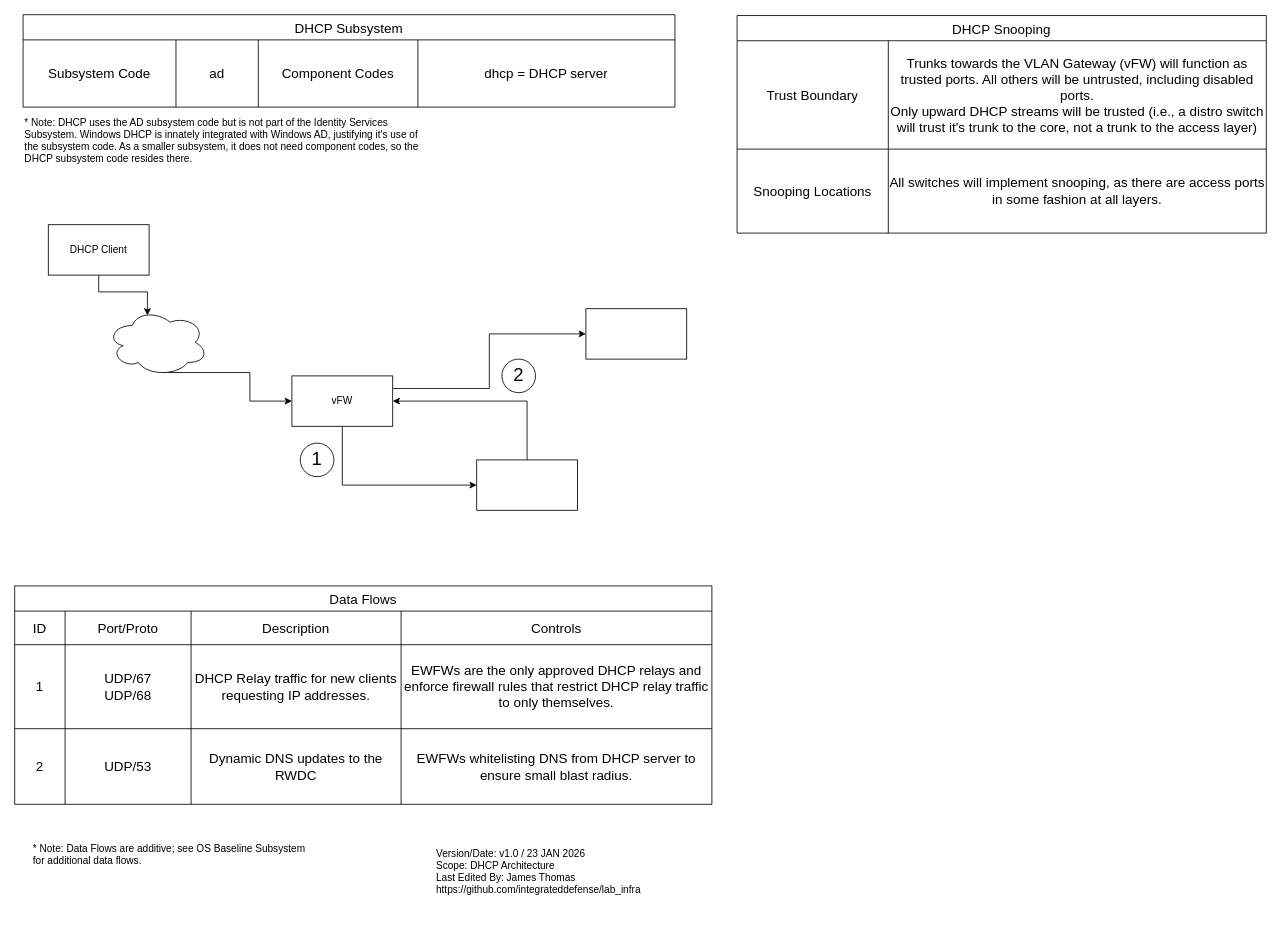
Some shapes in this 1281 by 928 pixel diagram are drawn without their labels. The centre of each missing label's shape, as x and y in pixels:
"DHCP Server" goes at point (527, 484).
"Network Devices" goes at point (157, 342).
"RWDC" goes at point (636, 333).
